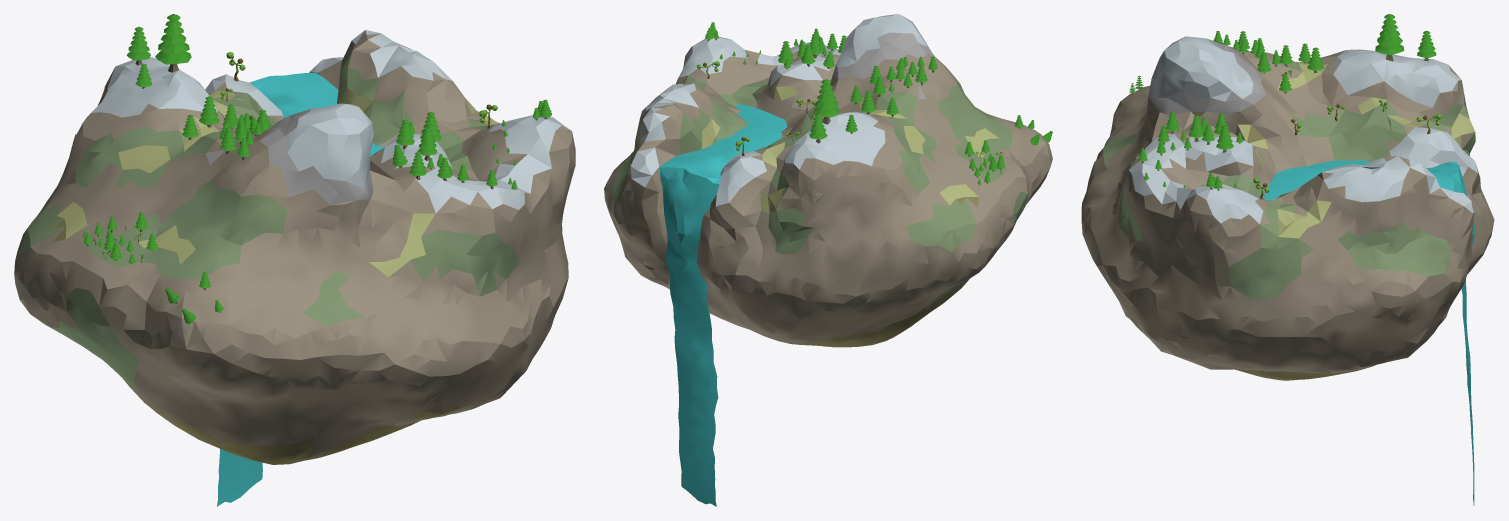
File: floating_island.glb
The picture shows the model from 3 angles, left to right: view 1: azimuth 30°, elevation 25°; view 2: azimuth 150°, elevation 25°; view 3: azimuth 270°, elevation 25°; orthographic projection. The views are drawn at different scales.
Parts seen in each view (by area): view 1: Icosphere_Material.003_0, Plane.001_Material.005_0, water_river; view 2: Icosphere_Material.003_0, water_river, Plane.001_Material.005_0; view 3: Icosphere_Material.003_0, Plane.001_Material.005_0, water_river.
Boxes of the visible parts, bbox=[...] form: Icosphere_Material.003_0: bbox=[14, 30, 575, 464]; Plane.001_Material.005_0: bbox=[83, 14, 551, 323]; water_river: bbox=[217, 72, 385, 506]; Icosphere_Material.003_0: bbox=[604, 14, 1052, 347]; water_river: bbox=[659, 104, 787, 506]; Plane.001_Material.005_0: bbox=[705, 22, 1052, 184]; Icosphere_Material.003_0: bbox=[1081, 36, 1494, 380]; Plane.001_Material.005_0: bbox=[1129, 14, 1436, 188]; water_river: bbox=[1264, 160, 1475, 505].
Size of the model in its own units: 174 by 189 by 158.
